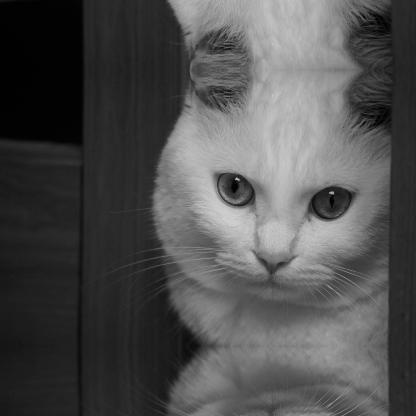Cat: (78, 69, 390, 344), (78, 0, 390, 70), (78, 346, 390, 415)
